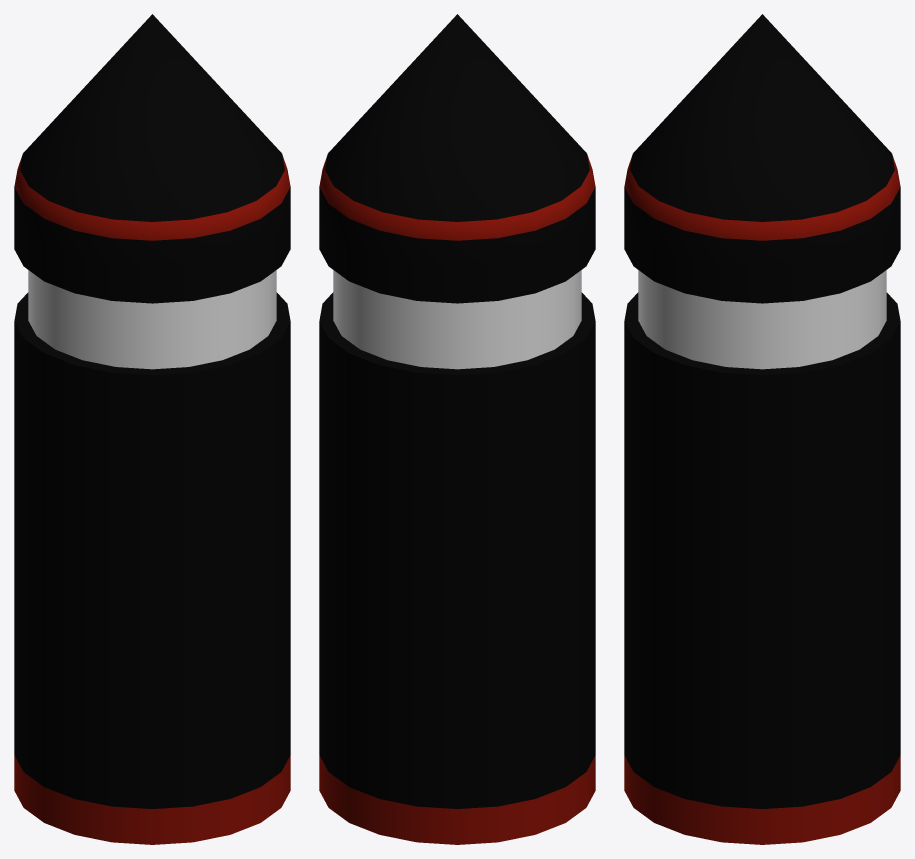
Rendered from CHBullet.fbx.
3 views of the same model, side by side, from view 1: azimuth 30°, elevation 25°; view 2: azimuth 150°, elevation 25°; view 3: azimuth 270°, elevation 25° (orthographic).
Parts seen in each view (by area): view 1: pCylinder1; view 2: pCylinder1; view 3: pCylinder1.
Boxes of the visible parts, x1,y1,x2,y2 form: pCylinder1: (14,14,290,844); pCylinder1: (319,14,595,844); pCylinder1: (624,14,900,844).
Bounding box in the file's own units: 1.99 × 6.15 × 1.99.
